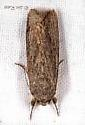army worm adult: (14, 8, 68, 122)
